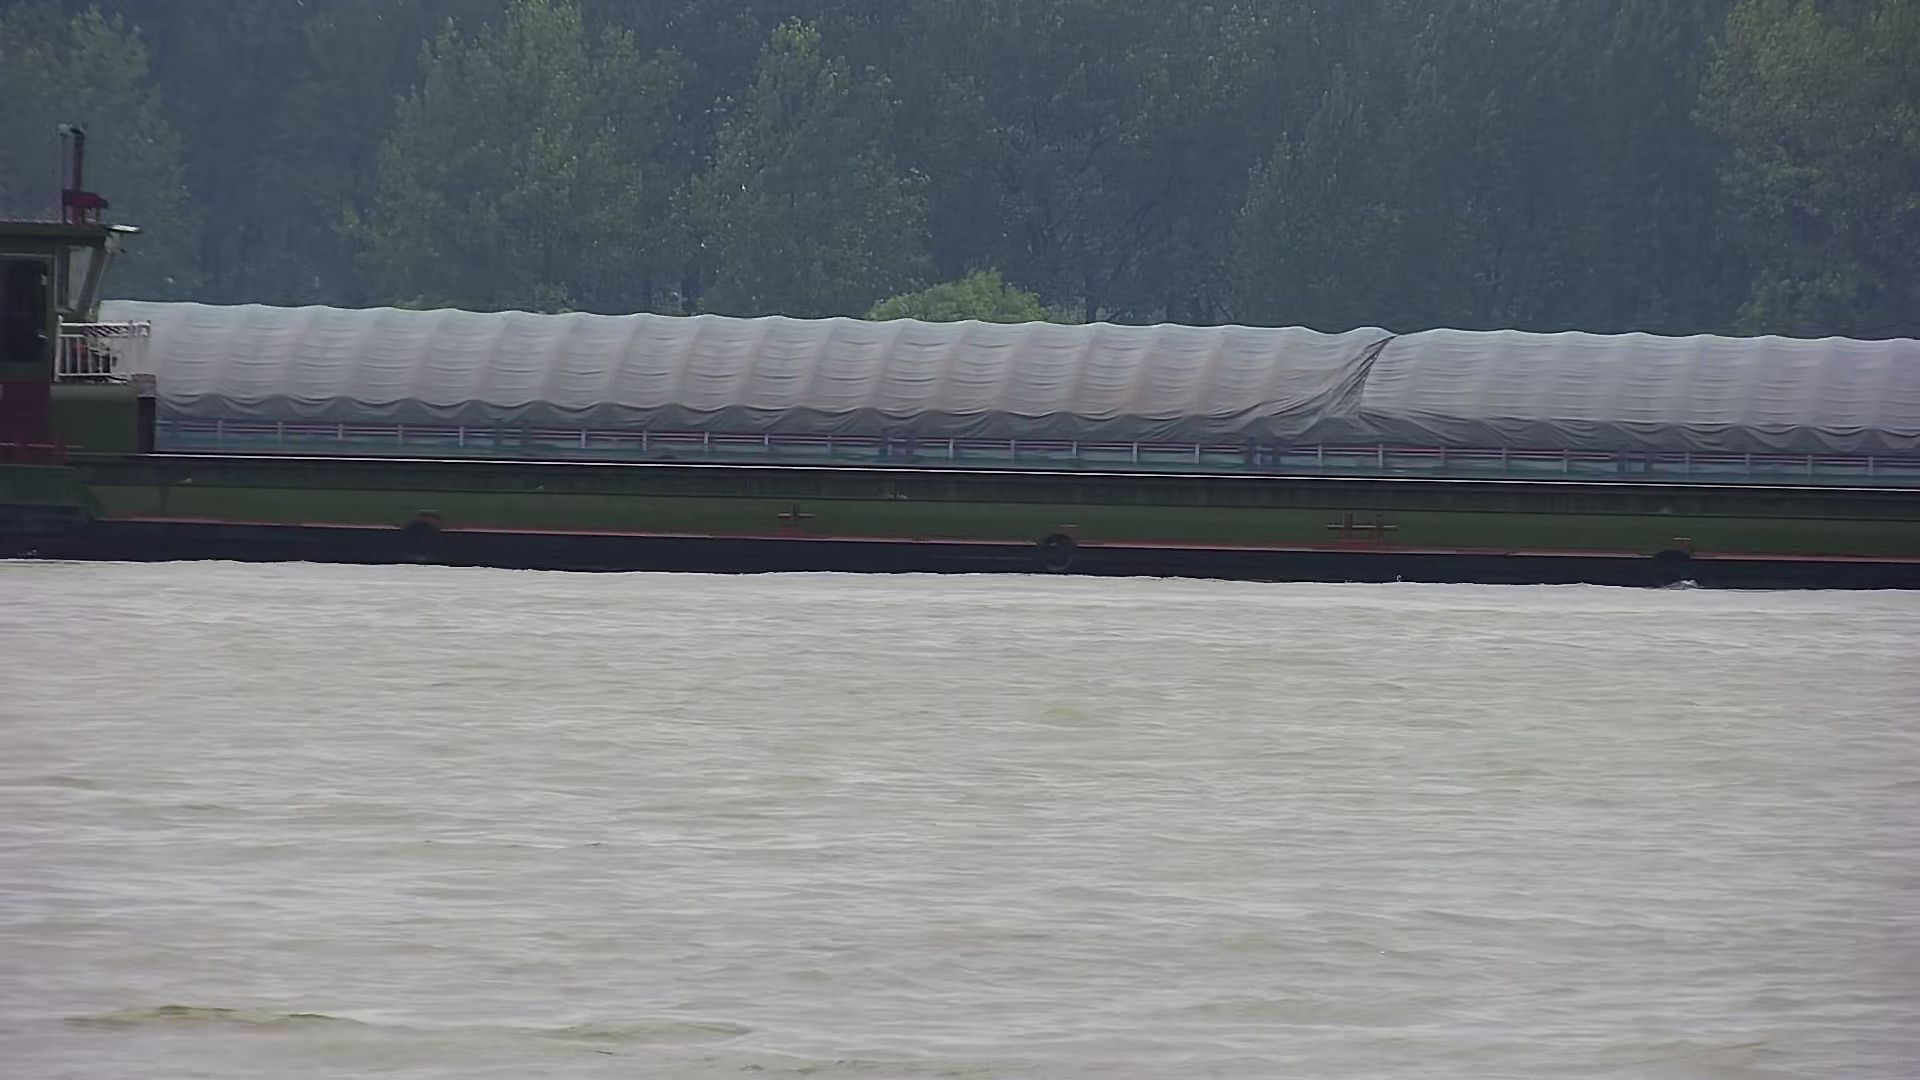ship: (1, 111, 1919, 605)
